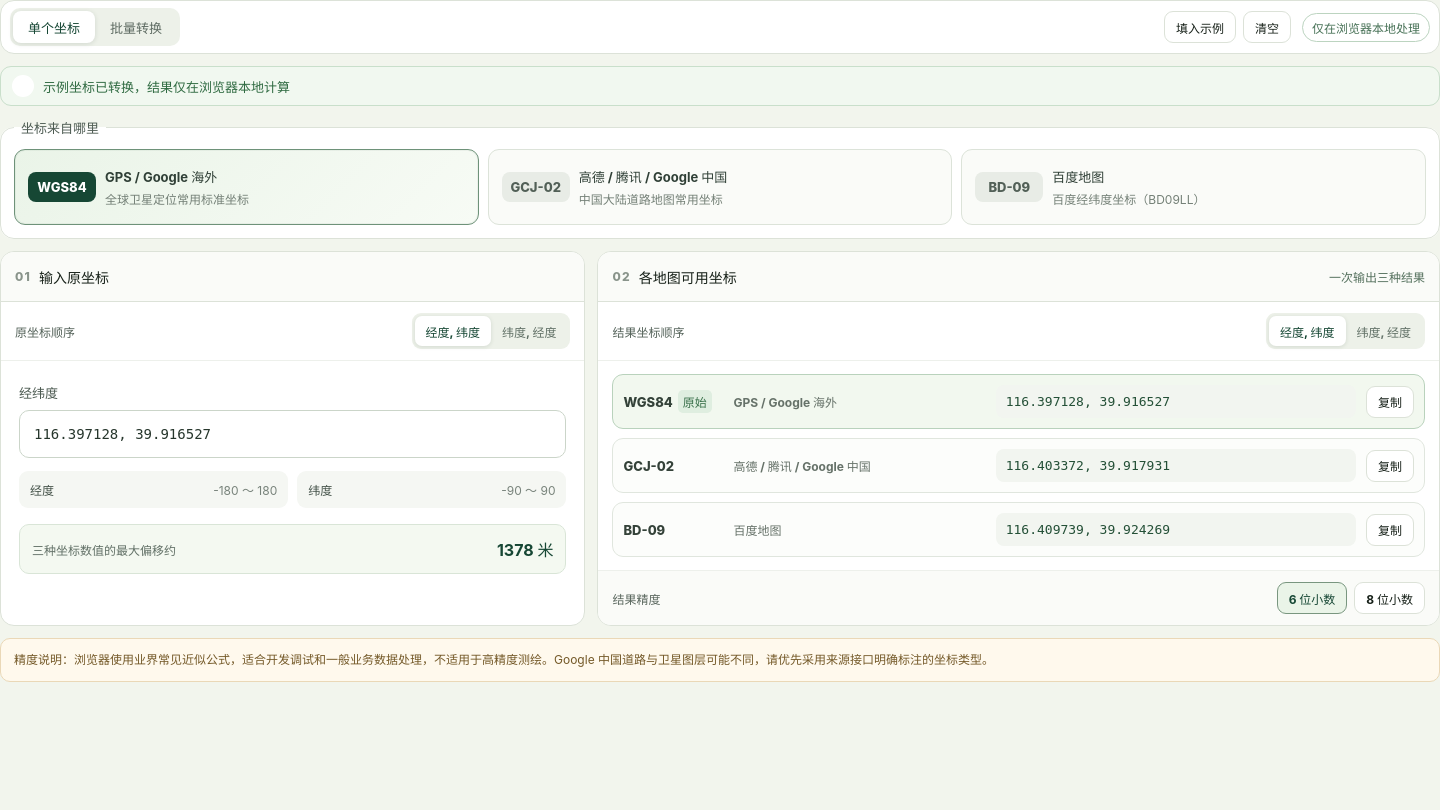
Scenario: CoordinateTool › shows all three coordinate systems and updates live from one coordinate
Expected: the heading "各地图可用坐标" is shown, [639, 266, 737, 286]
Expected: the text "WGS84" below "坐标来自哪里" is shown, [37, 179, 87, 195]
Replace the text in the field named "单个坐标" with "121.4737,31.2304" at (293, 434), box [19, 410, 566, 458]
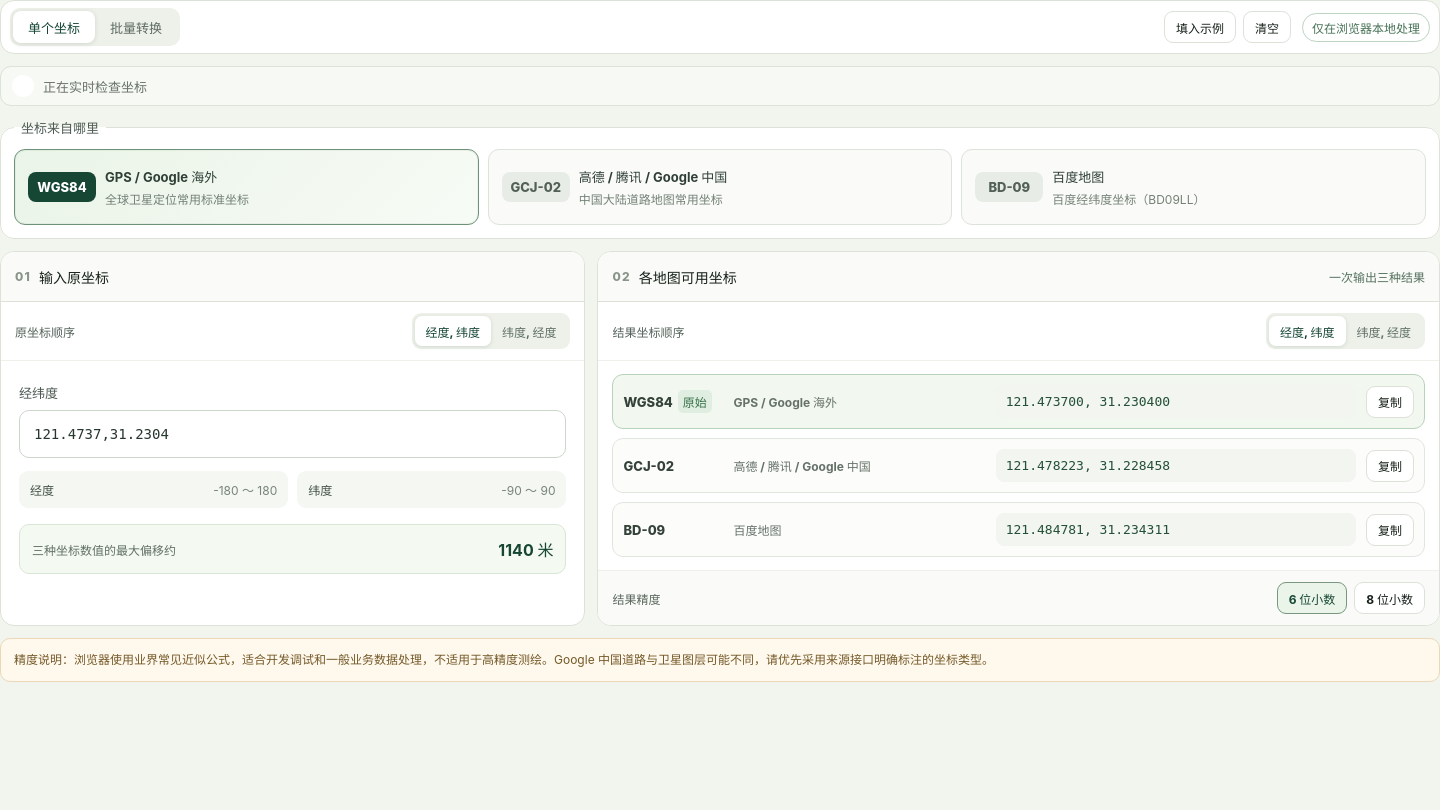
Result: the message shows "实时检查" at [43, 78, 147, 94]
